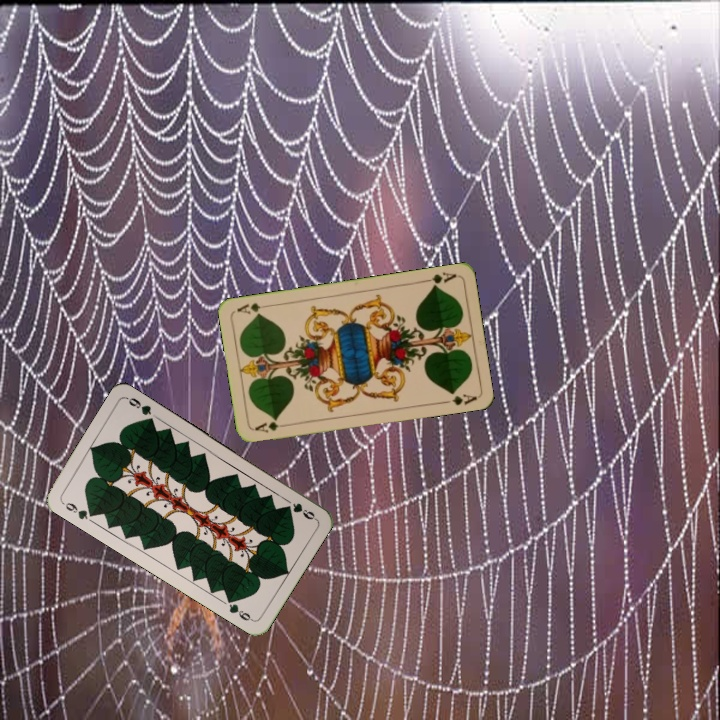G9: (58, 498, 98, 522), (289, 499, 318, 522)
GA: (419, 268, 459, 290), (251, 416, 291, 435)
